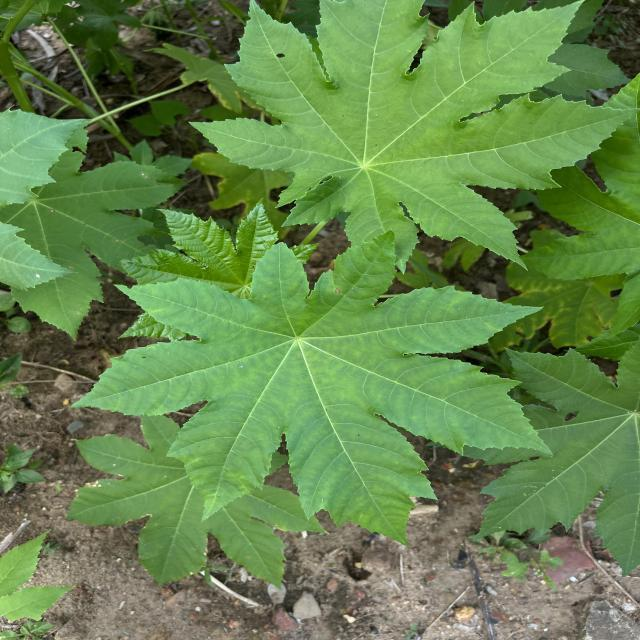Ricinus communis linn: (66, 225, 556, 550), (180, 0, 640, 281)
